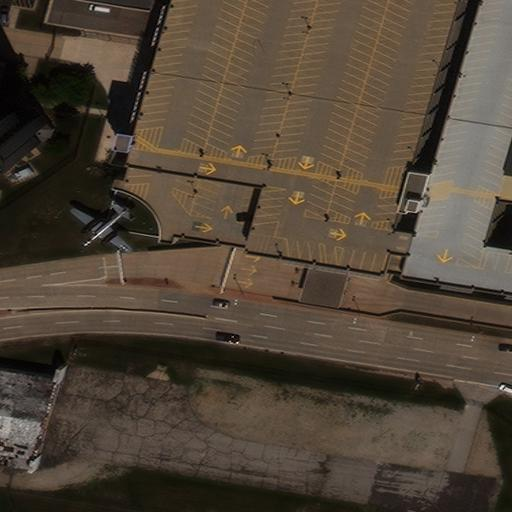Military Transport: (69, 207, 129, 254)
